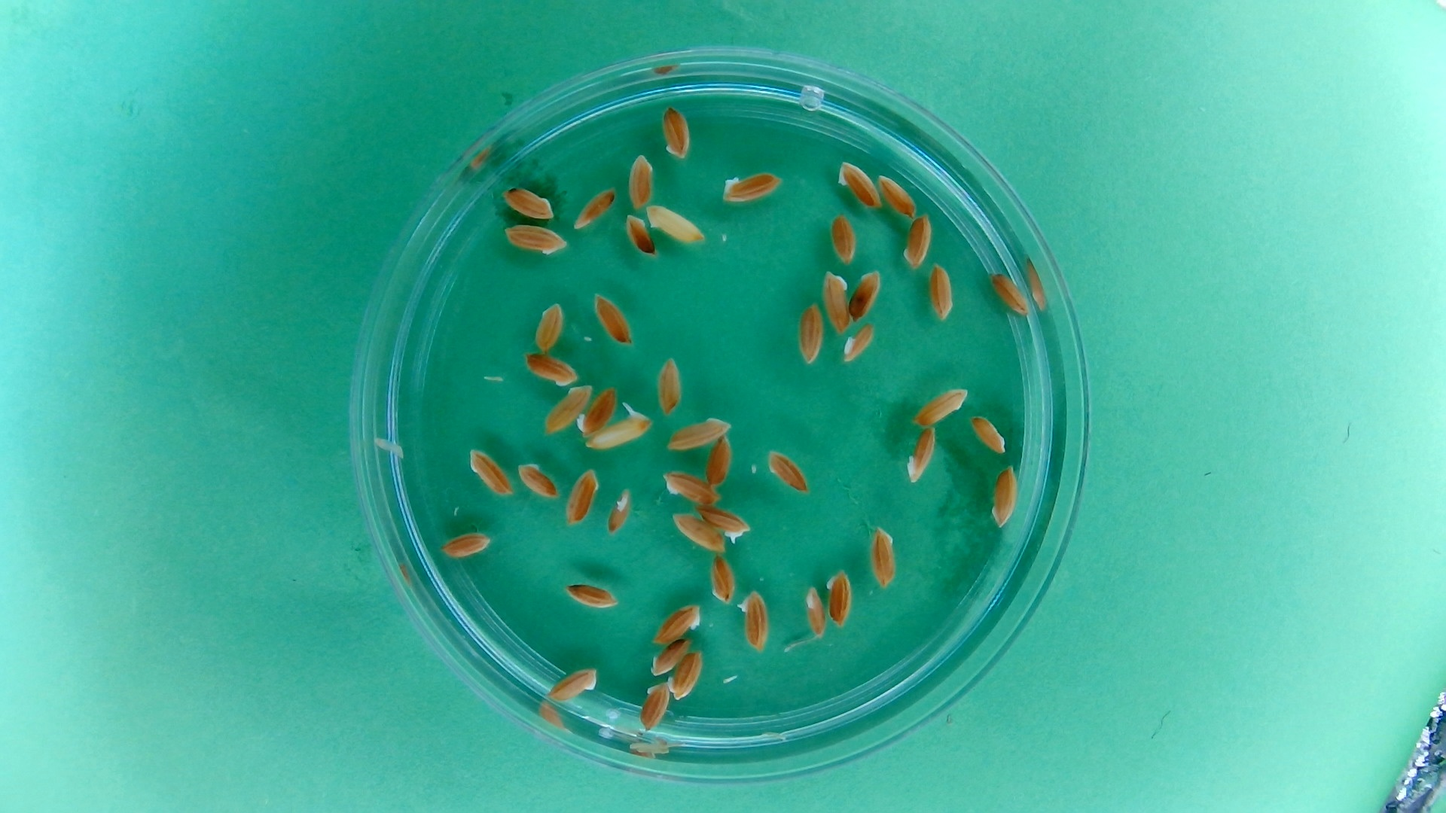no: (541, 382, 593, 438), (645, 199, 708, 245), (664, 414, 733, 454), (909, 383, 970, 428), (590, 290, 636, 349), (659, 468, 725, 508), (671, 510, 728, 556), (718, 168, 785, 207), (465, 446, 514, 499), (835, 158, 883, 210), (562, 464, 601, 528), (519, 350, 581, 390), (575, 383, 620, 438), (764, 446, 812, 497), (735, 588, 772, 654), (650, 601, 703, 647), (501, 222, 570, 257), (570, 183, 618, 233), (819, 267, 853, 336), (499, 183, 556, 224), (987, 268, 1033, 318), (875, 170, 920, 221), (903, 423, 940, 485), (847, 266, 884, 327), (793, 299, 825, 366), (868, 523, 900, 590), (899, 212, 935, 270), (666, 649, 705, 702), (659, 101, 694, 160), (545, 665, 599, 703), (514, 458, 560, 502), (530, 299, 566, 355), (989, 464, 1020, 529), (703, 433, 737, 491), (825, 566, 856, 629), (649, 635, 694, 678), (654, 354, 685, 416), (927, 260, 958, 322), (562, 580, 621, 612), (638, 679, 672, 734), (625, 151, 656, 211), (828, 210, 860, 266), (968, 412, 1008, 455), (621, 211, 656, 260), (438, 529, 493, 560), (707, 553, 739, 606), (840, 319, 877, 364), (802, 584, 828, 642), (609, 489, 633, 531)
yes: (585, 409, 653, 452), (696, 503, 752, 543)
